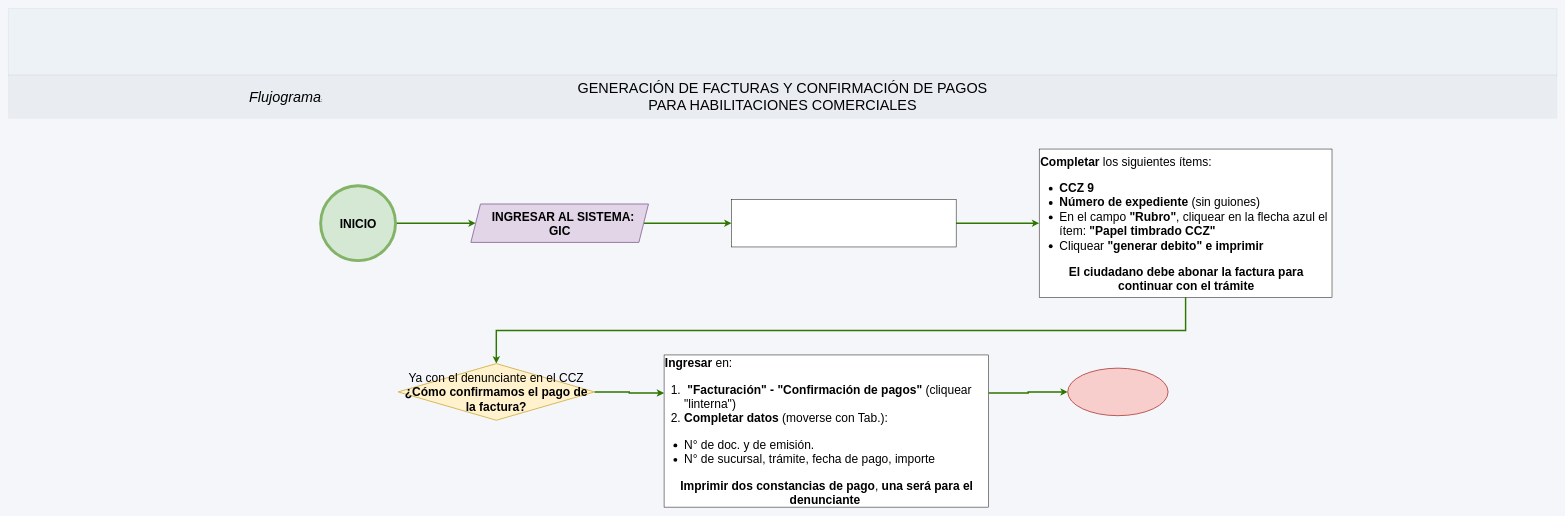
The diagram is 1565 pixels wide and 516 high, and some of its shapes have lost their labels. The centre of each missing label's shape, as x and y in pixels:
FIN: [1117,391]
Ingresar a: "facturación" - "cobro de trámite" (cliquear "linterna"): [843,223]
